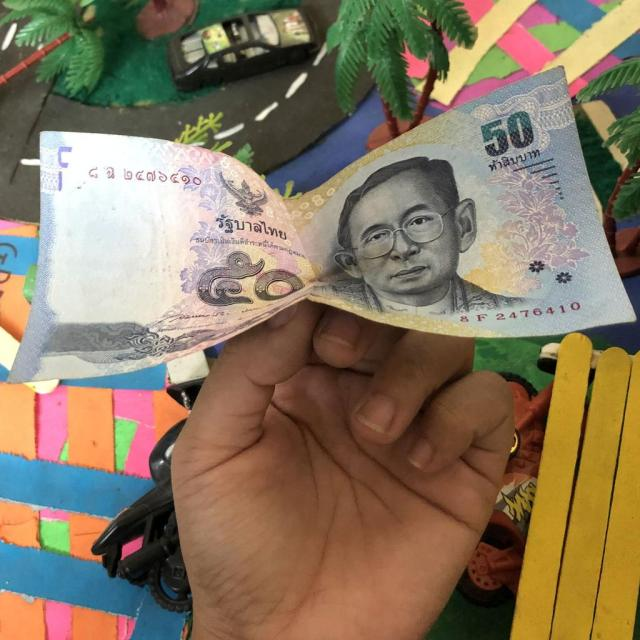THAI50: (6, 64, 639, 389)
